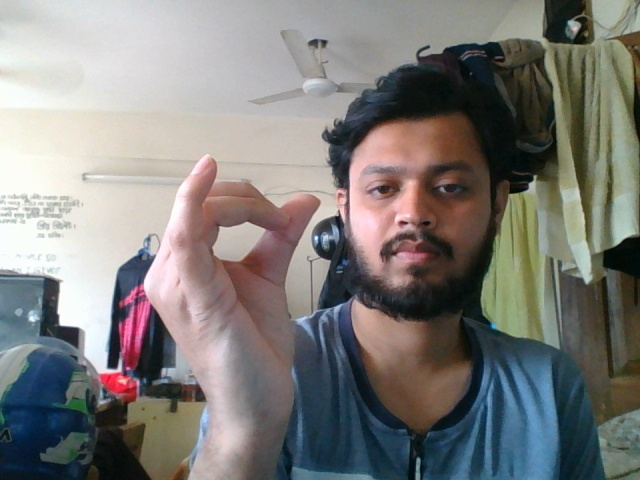oi: (140, 150, 325, 424)
